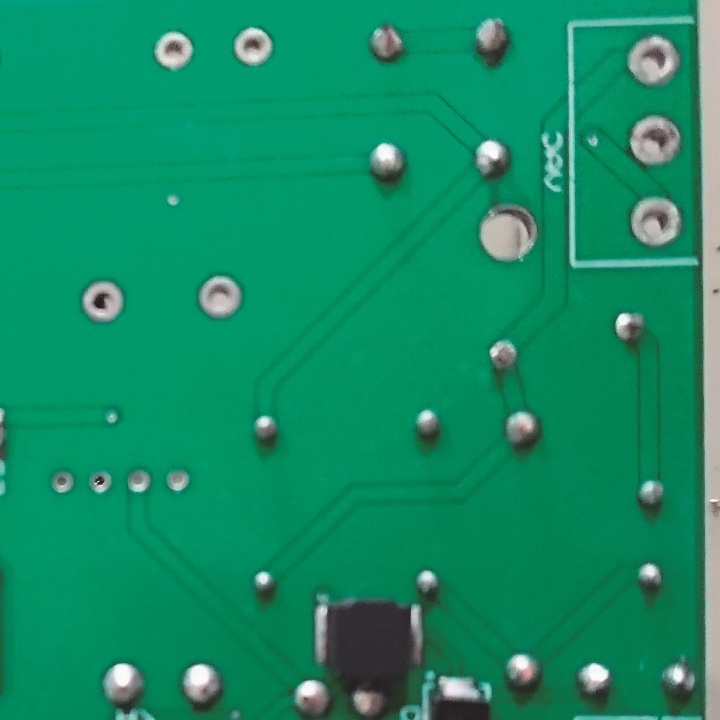F: (625, 112, 687, 169), (625, 192, 683, 249), (625, 33, 682, 89), (194, 272, 245, 323), (76, 277, 127, 326), (150, 28, 199, 74), (229, 23, 275, 66), (47, 466, 77, 497), (161, 463, 190, 494), (86, 467, 113, 496), (124, 465, 150, 494)
